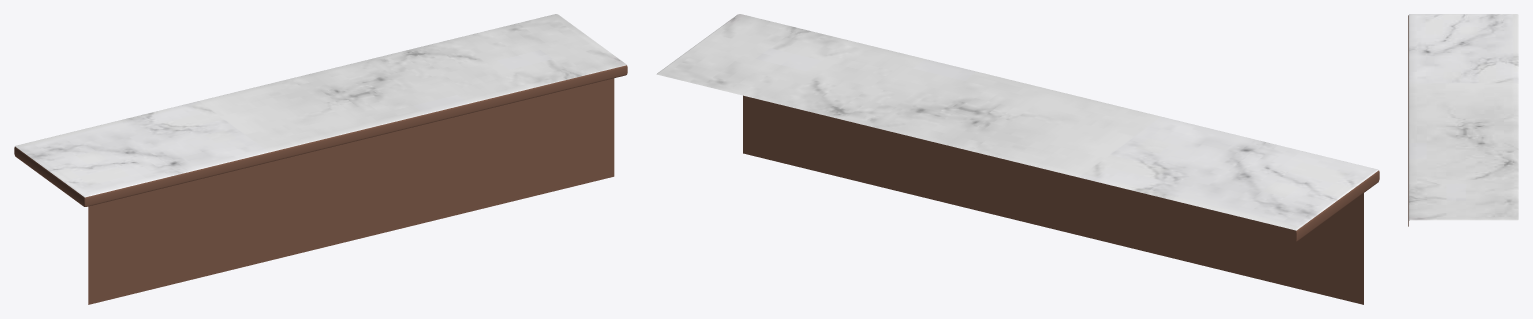
File: comptoir_marbre.fbx
3 views of the same model, side by side, from view 1: azimuth 30°, elevation 25°; view 2: azimuth 150°, elevation 25°; view 3: azimuth 270°, elevation 25° (orthographic). The views are drawn at different scales.
Visible parts, largest first — view 1: comptoir; view 2: comptoir; view 3: comptoir.
Boxes of the visible parts, <box> form: comptoir: <box>14,14,627,304</box>; comptoir: <box>656,14,1379,304</box>; comptoir: <box>1408,14,1518,226</box>.
Bounding box in the file's own units: 516 × 103 × 116.
Materials: 1 (1 with a texture image).
